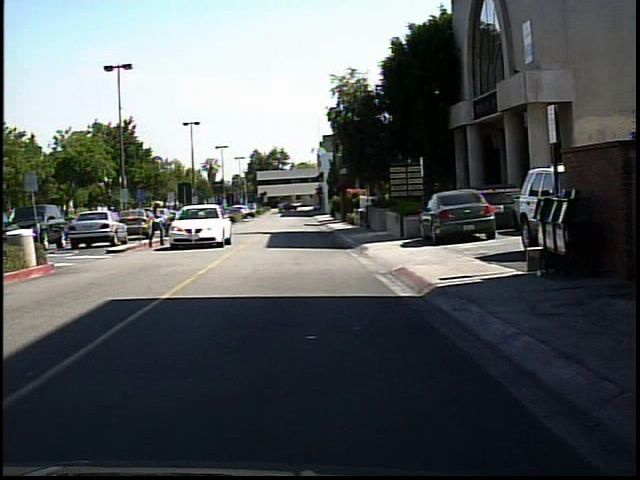person: (145, 196, 169, 249)
